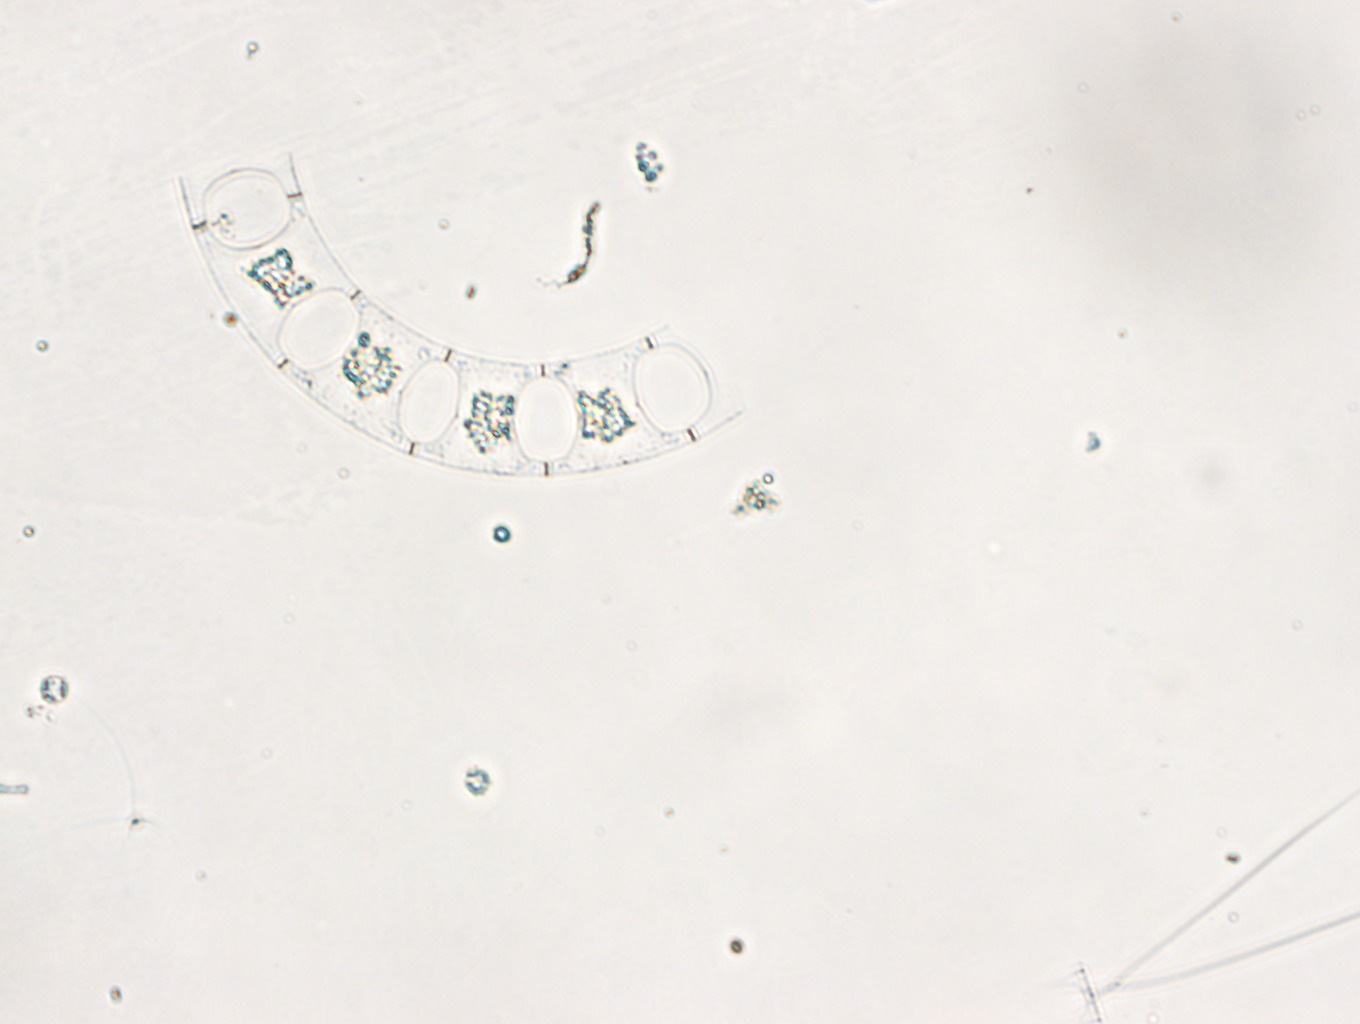chaetoceros: (1049, 790, 1360, 1024)
eucampia: (174, 147, 749, 478)
